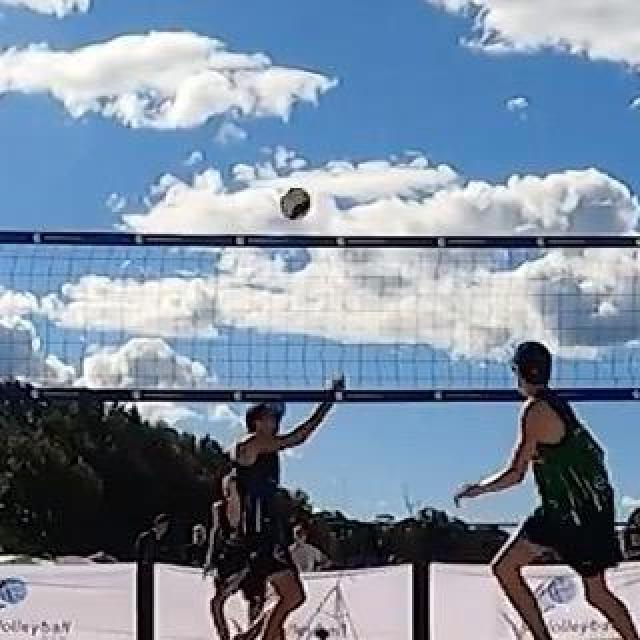volleyball: (280, 191, 308, 221)
